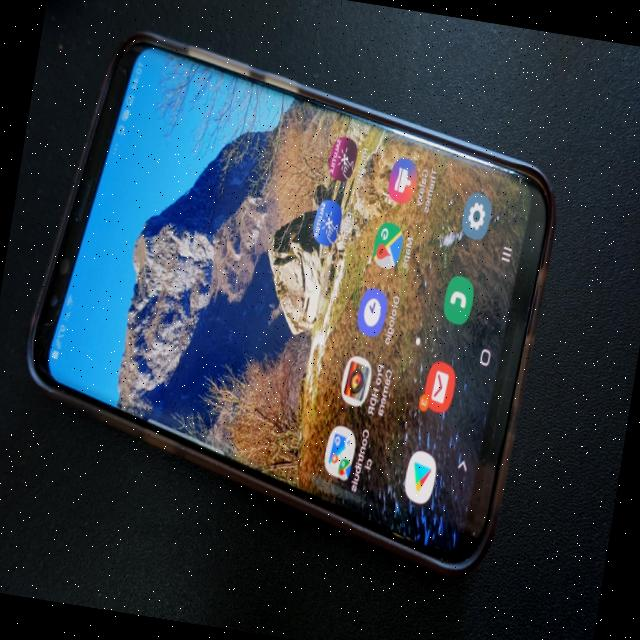Phone: (1, 16, 574, 586)
